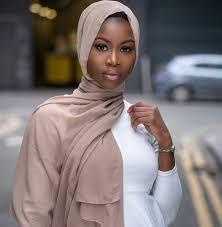No Mask: (80, 9, 146, 102)
